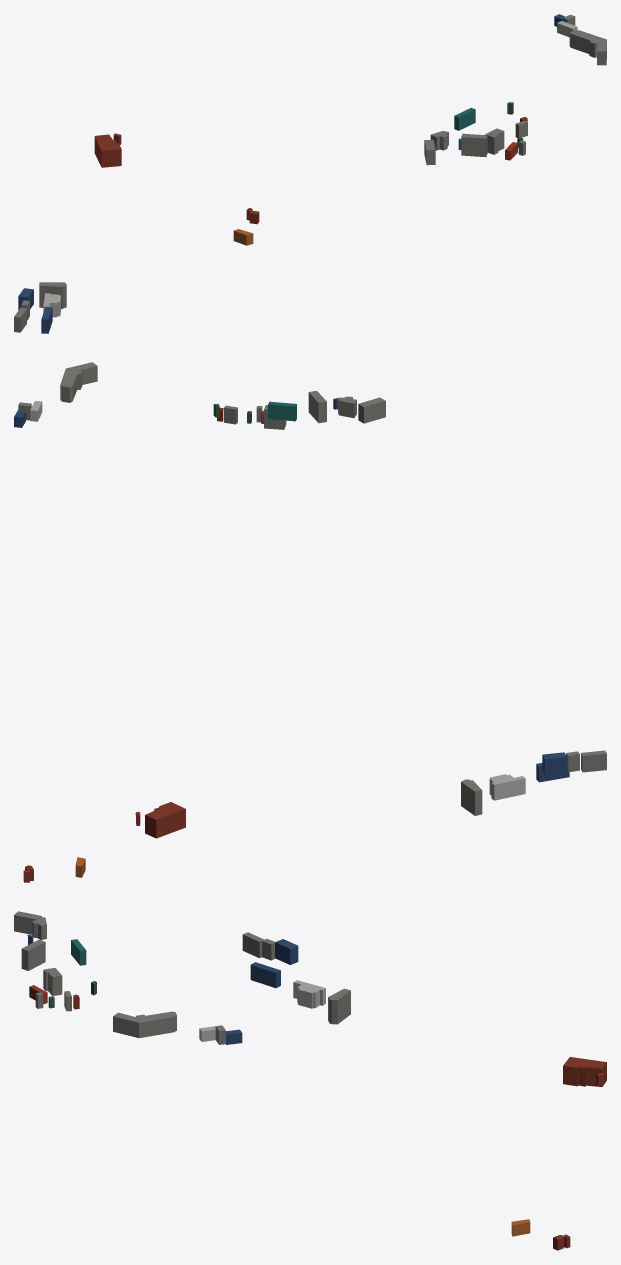
The model's file is near-15-27365-14882.b4150585.glb.
The picture shows the model from 3 angles, top to bottom: view 1: azimuth 30°, elevation 25°; view 2: azimuth 150°, elevation 25°; view 3: azimuth 270°, elevation 25°; orthographic projection. The views are drawn at different scales.
Bounding box in the file's own units: 1043 × 519 × 898.
